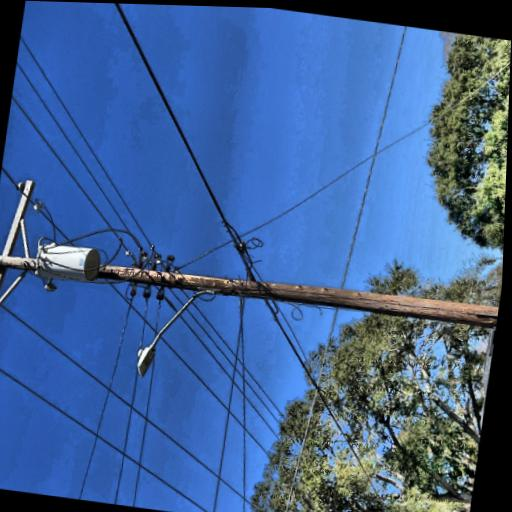insulator: (26, 83, 36, 95), (76, 100, 85, 112), (168, 136, 177, 146)
pole: (46, 101, 135, 501)
street light: (0, 274, 85, 369)
transformer: (81, 158, 123, 234)
